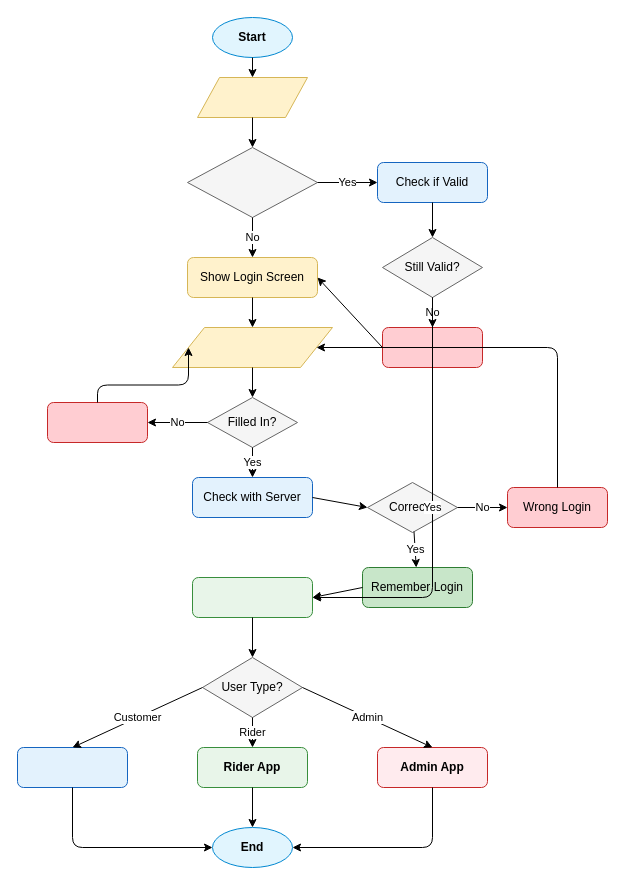
This 625x885 diagram has some shape labels left out. Here are the shapes that lost their labels. From the top down, the centre of each, then its label:
At point (252, 97): "Open App".
At point (252, 182): "Already Logged In?".
At point (252, 347): "Type Email & Password".
At point (432, 347): "Log Out".
At point (97, 422): "Show Error".
At point (252, 597): "Get User Type".
At point (72, 767): "Customer App".
